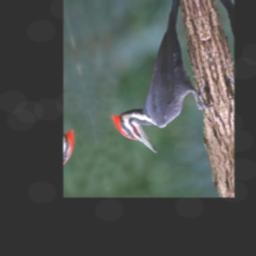Woodpecker: (83, 0, 220, 164)
